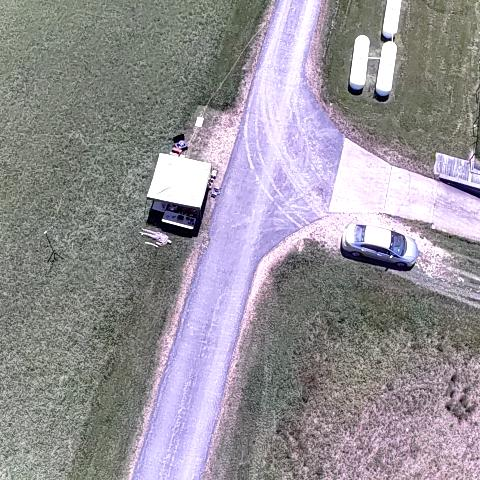person: (138, 228, 172, 245)
